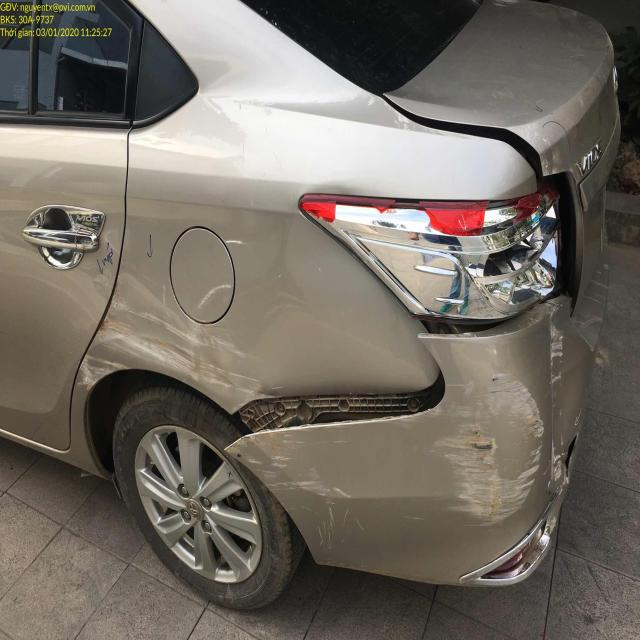Cabossage: (243, 207, 330, 356)
Dechirure: (201, 366, 464, 476), (399, 295, 564, 342), (557, 418, 585, 495)
Phare abime: (296, 181, 570, 318)
Rayure: (405, 371, 545, 528), (234, 433, 377, 577), (73, 298, 283, 396)
